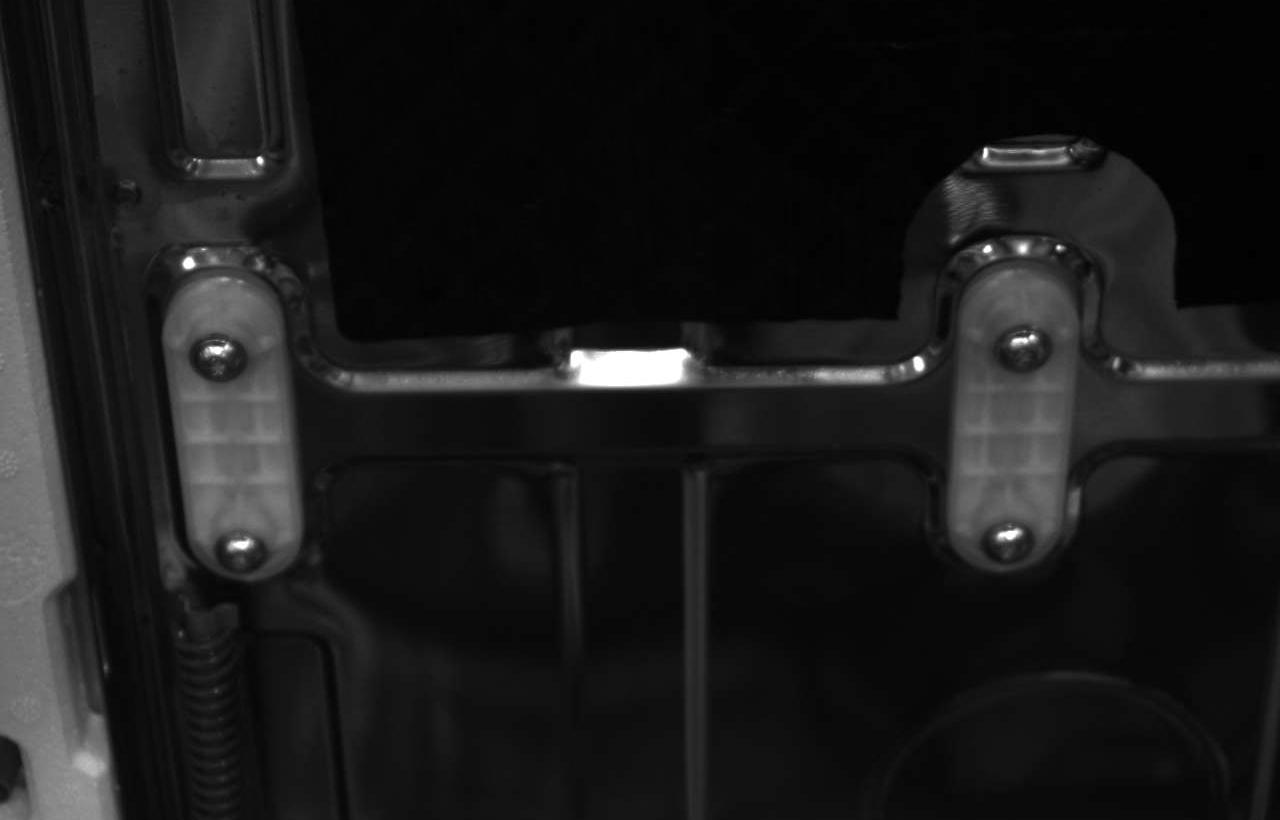vida-ok: (180, 324, 251, 391), (986, 319, 1053, 387), (973, 505, 1039, 574), (207, 521, 273, 579)
